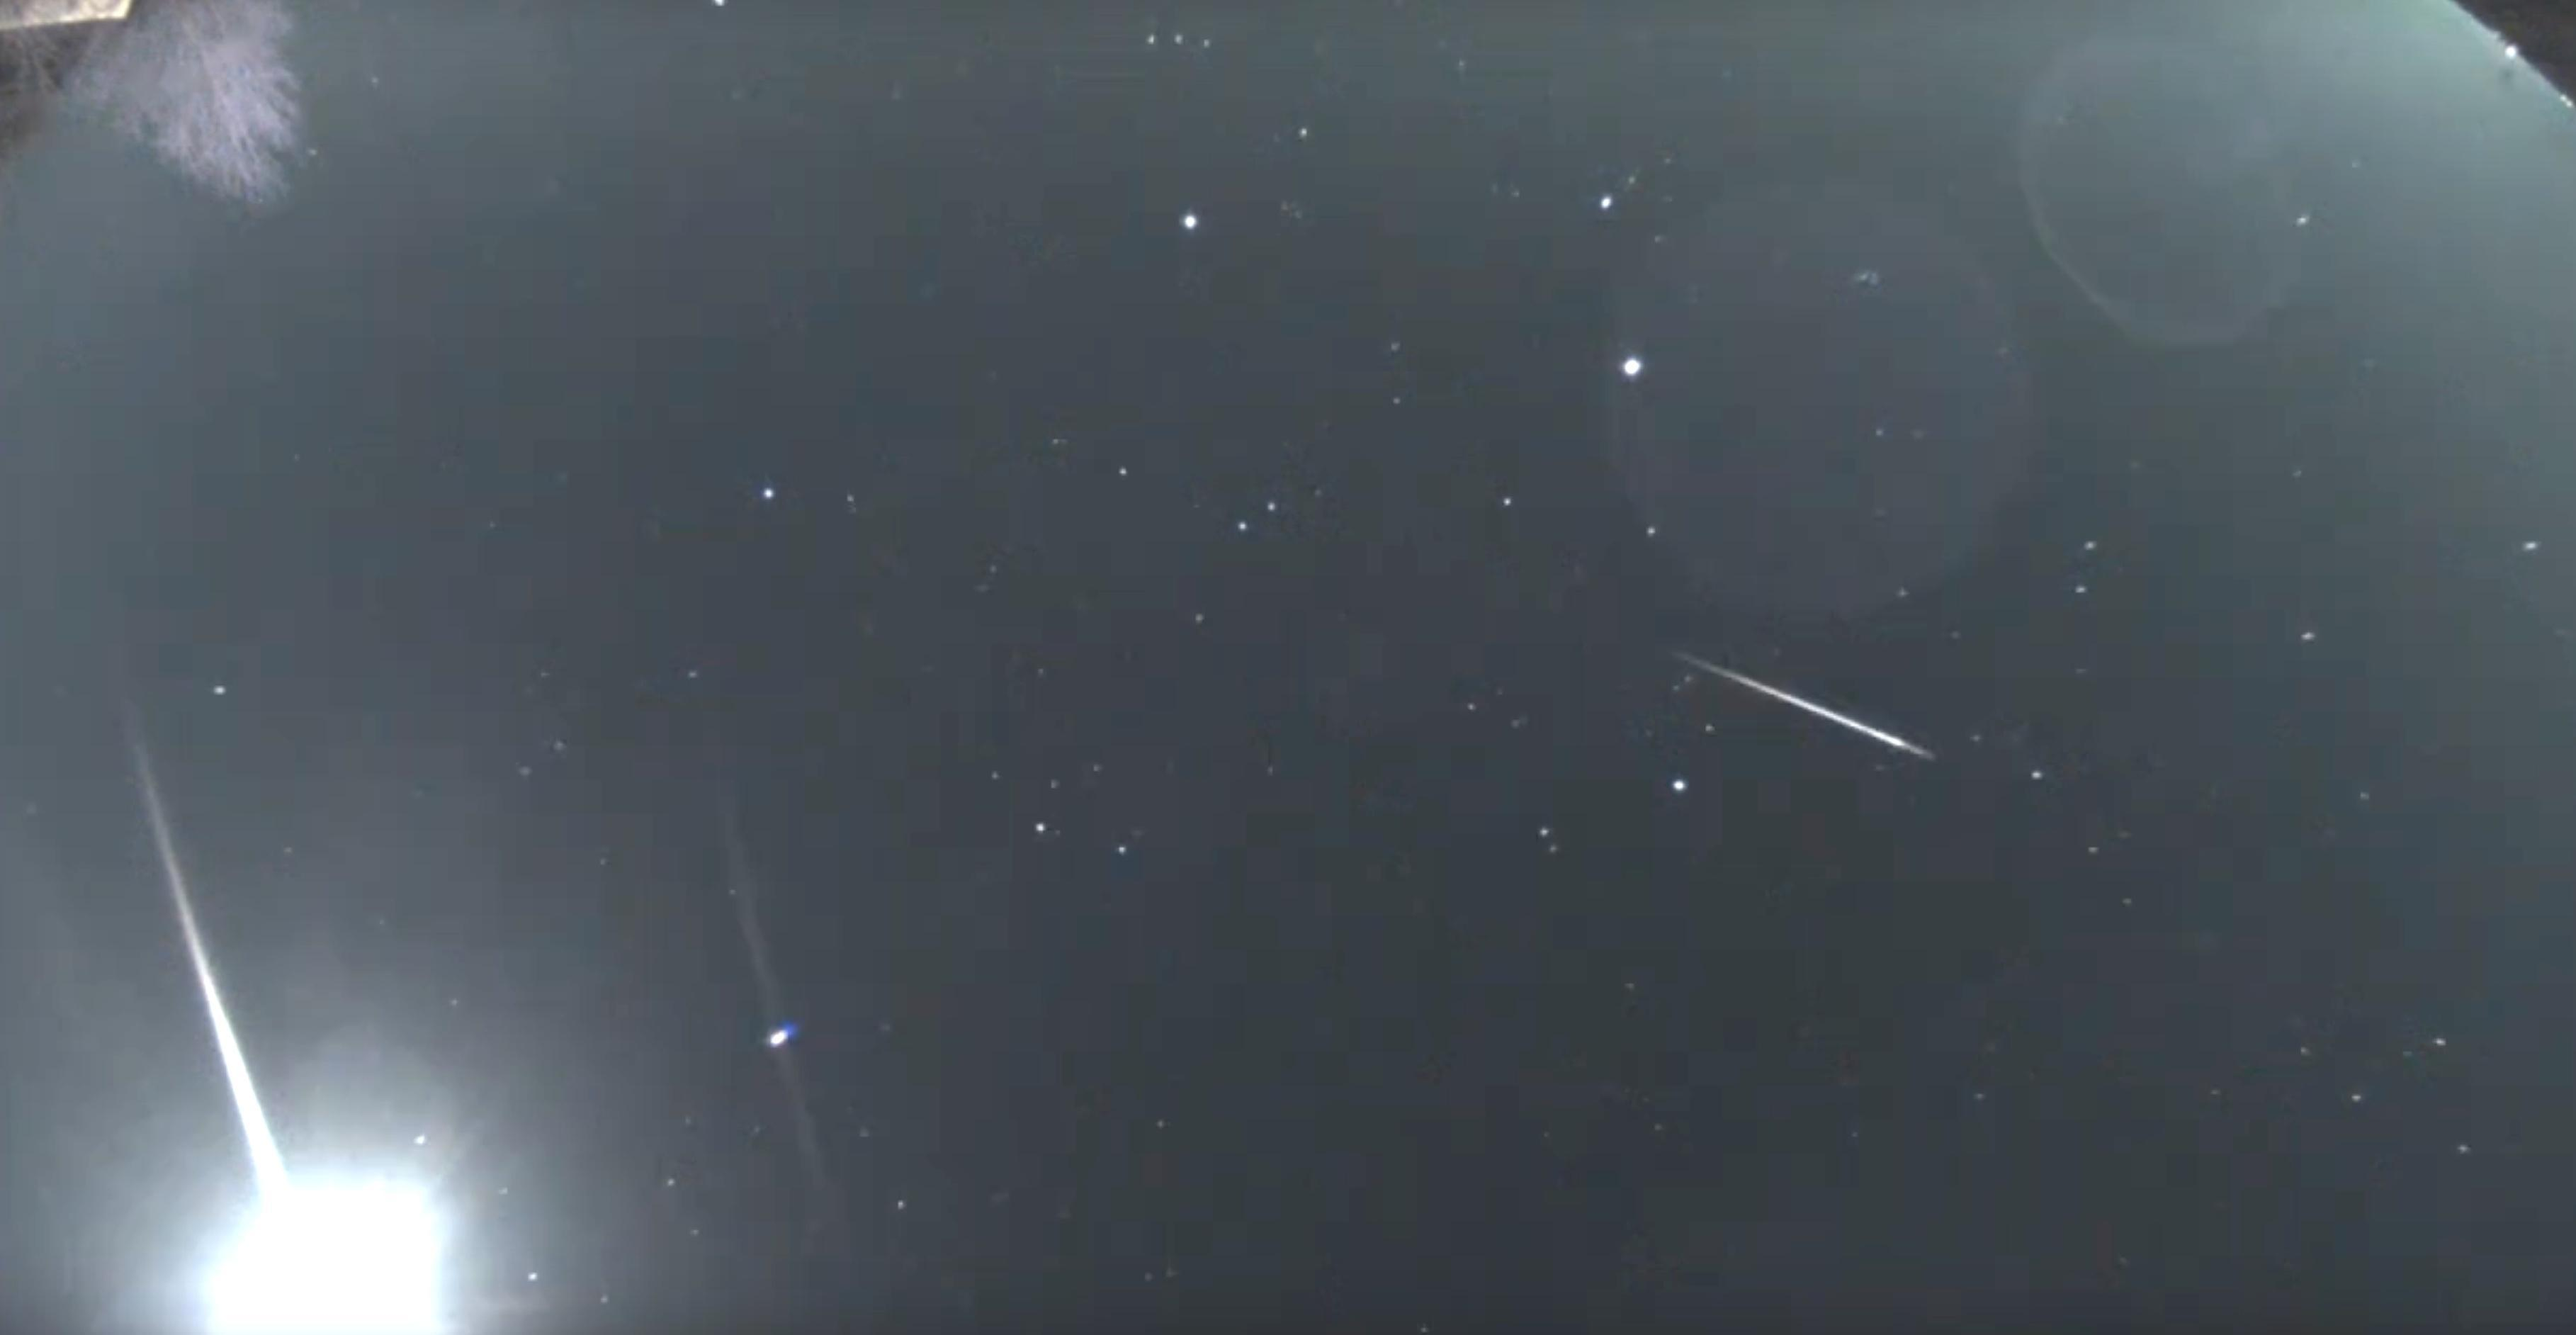meteorite: (1601, 637, 2047, 782)
